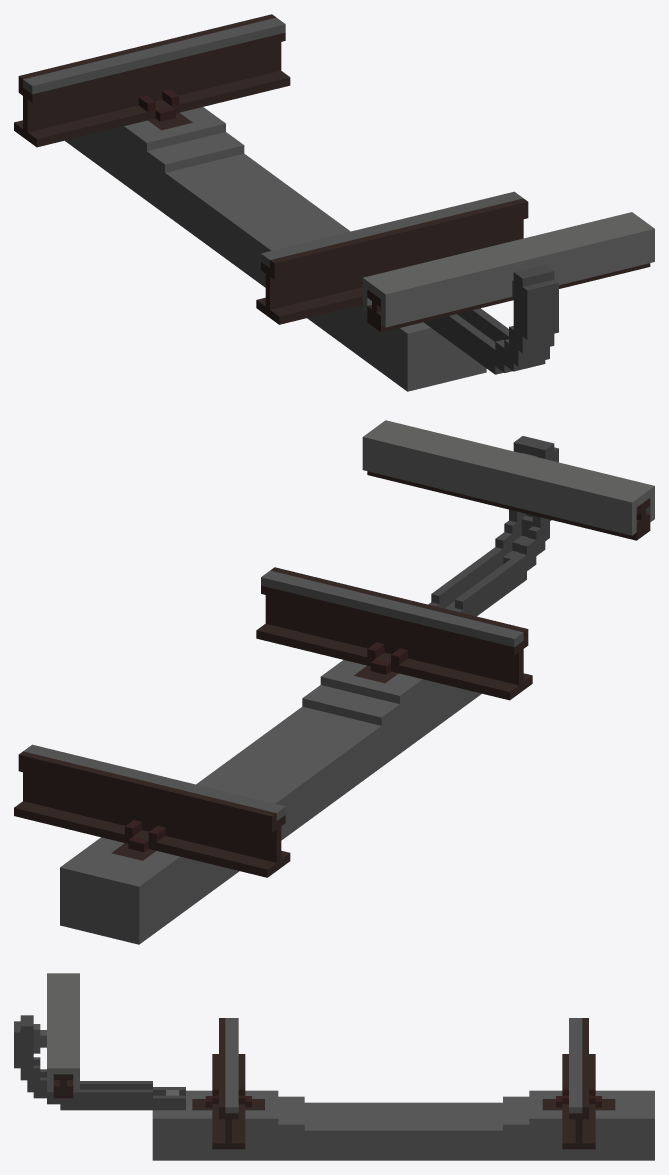
The model's file is 3rdrail.obj.
The picture shows the model from 3 angles, top to bottom: view 1: azimuth 30°, elevation 25°; view 2: azimuth 150°, elevation 25°; view 3: azimuth 270°, elevation 25°; orthographic projection. The views are drawn at different scales.
Visible parts, largest first — view 1: RAIL_BASE_1, RAIL_BASE_3, RAIL_RIGHT, RAIL_LEFT, RAIL_BASE_2; view 2: RAIL_BASE_1, RAIL_BASE_3, RAIL_RIGHT, RAIL_LEFT, RAIL_BASE_2; view 3: RAIL_BASE_1, RAIL_BASE_3, RAIL_RIGHT, RAIL_LEFT, RAIL_BASE_2.
Boxes of the visible parts, x1=… form: RAIL_BASE_1: x1=65, y1=107, x2=486, y2=391; RAIL_BASE_3: x1=362, y1=212, x2=654, y2=374; RAIL_RIGHT: x1=14, y1=14, x2=290, y2=147; RAIL_LEFT: x1=256, y1=191, x2=528, y2=324; RAIL_BASE_2: x1=138, y1=89, x2=179, y2=121; RAIL_BASE_1: x1=60, y1=660, x2=481, y2=944; RAIL_BASE_3: x1=362, y1=420, x2=654, y2=616; RAIL_RIGHT: x1=14, y1=744, x2=290, y2=877; RAIL_LEFT: x1=256, y1=567, x2=532, y2=700; RAIL_BASE_2: x1=125, y1=642, x2=407, y2=851; RAIL_BASE_1: x1=152, y1=1090, x2=654, y2=1160; RAIL_BASE_3: x1=14, y1=973, x2=185, y2=1110; RAIL_RIGHT: x1=562, y1=1018, x2=595, y2=1149; RAIL_LEFT: x1=212, y1=1018, x2=245, y2=1149; RAIL_BASE_2: x1=205, y1=1087, x2=601, y2=1107.
Bounding box in the file's own units: 1.06 × 0.6562 × 3.03.
1 material, 1 textured.
